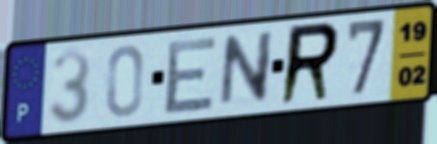0: (104, 42, 146, 120)
3: (46, 45, 94, 129)
7: (345, 16, 389, 99)
E: (161, 33, 220, 117)
N: (216, 28, 277, 112)
R: (276, 19, 343, 109)
